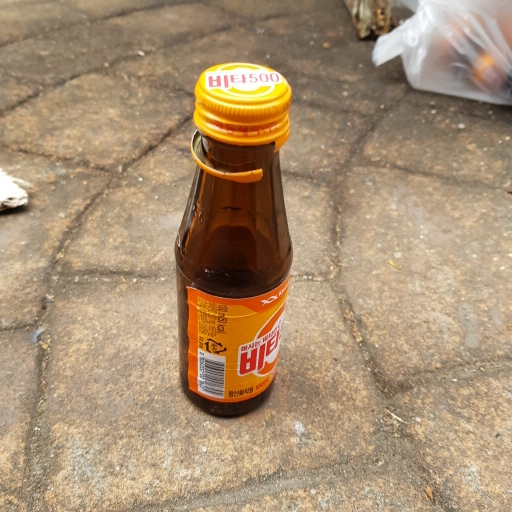Glass_3: (168, 58, 296, 424)
